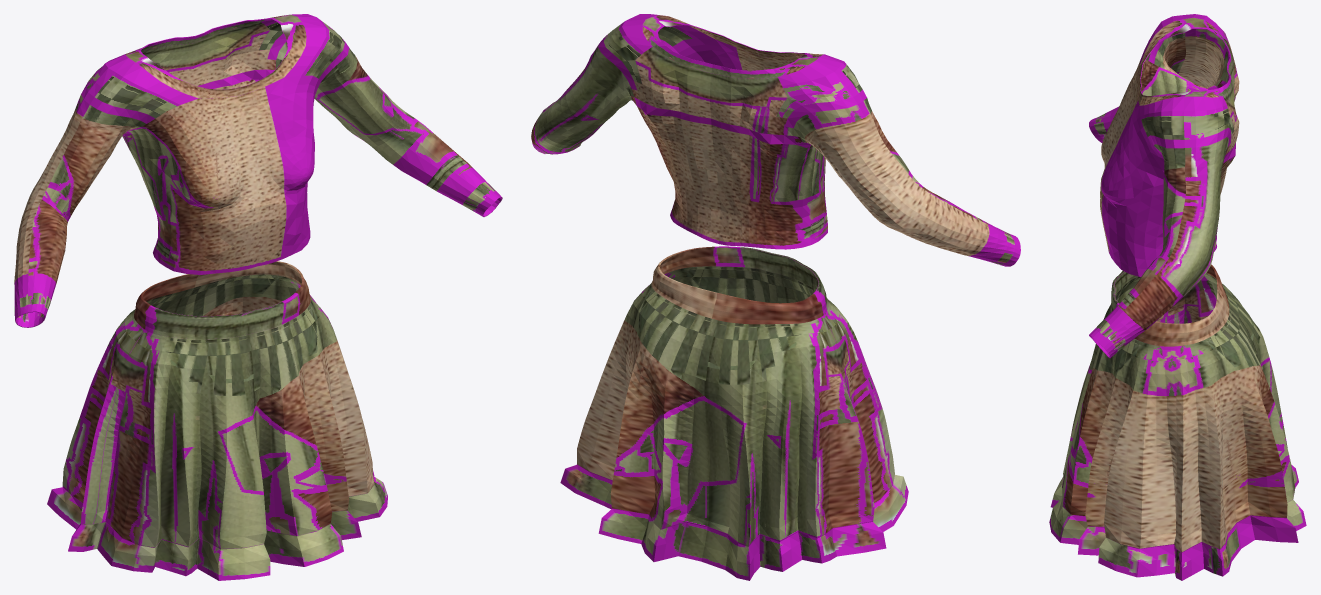
3 renders of one model, left to right at view 1: azimuth 30°, elevation 25°; view 2: azimuth 150°, elevation 25°; view 3: azimuth 270°, elevation 25°, orthographic. The views are drawn at different scales.
Bounding box in the file's own units: 0.9647 × 0.9334 × 0.4622.
1 material, 1 textured.
